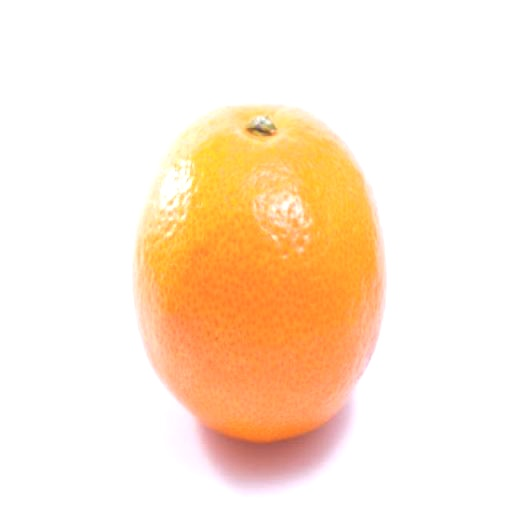fruit: (65, 155, 209, 495)
